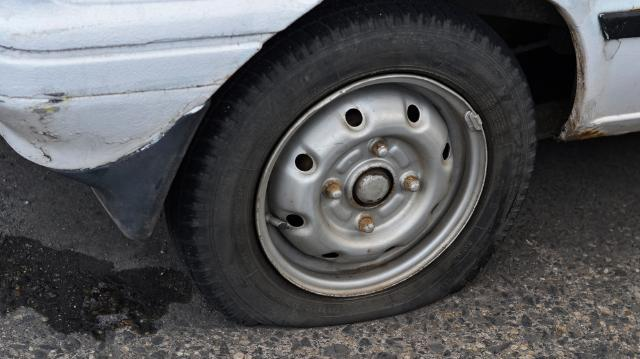tire flat: (165, 0, 536, 332)
